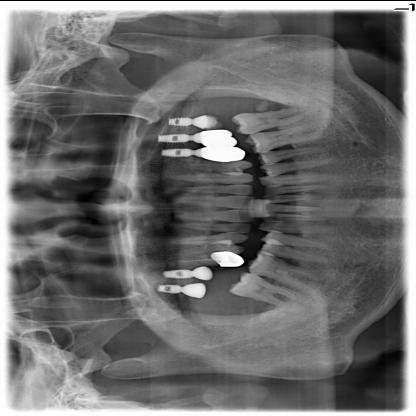Bicon: (156, 131, 200, 143), (159, 146, 203, 158), (155, 282, 187, 294), (161, 268, 196, 277), (166, 116, 193, 126)
